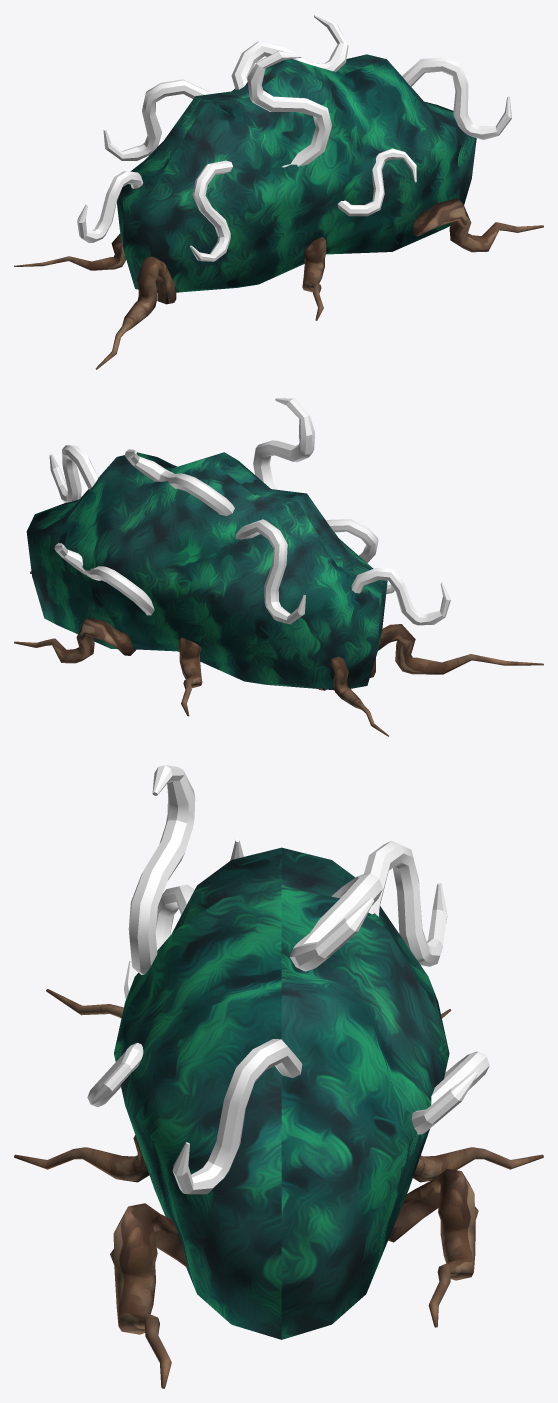
Rendered from Bush_Mutant_02.fbx.
The picture shows the model from 3 angles, top to bottom: view 1: azimuth 30°, elevation 25°; view 2: azimuth 150°, elevation 25°; view 3: azimuth 270°, elevation 25°; orthographic projection. The views are drawn at different scales.
Visible parts, largest first — view 1: Bush_Mutant1; view 2: Bush_Mutant1; view 3: Bush_Mutant1.
Part boxes in pixels (left/top/right/bottom): Bush_Mutant1: left=14, top=14, right=543, bottom=369; Bush_Mutant1: left=14, top=398, right=543, bottom=736; Bush_Mutant1: left=14, top=765, right=543, bottom=1388.
Size of the model in its own units: 249 by 123 by 140.
